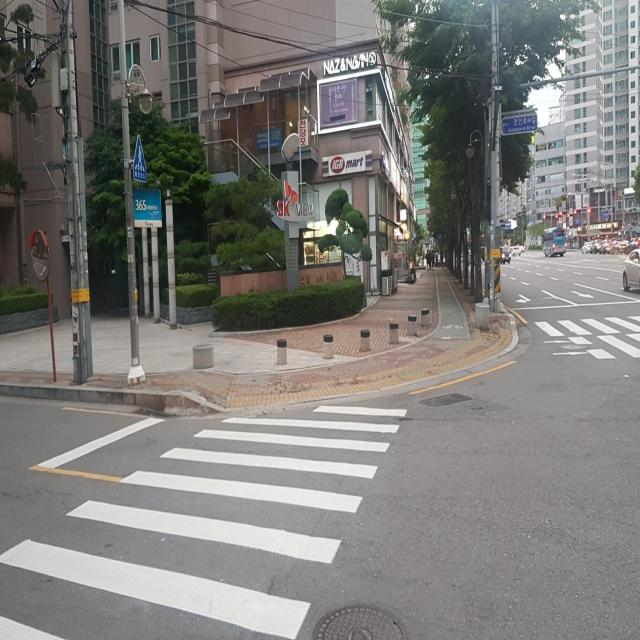횡단보도: (0, 398, 410, 640), (532, 310, 640, 370)
